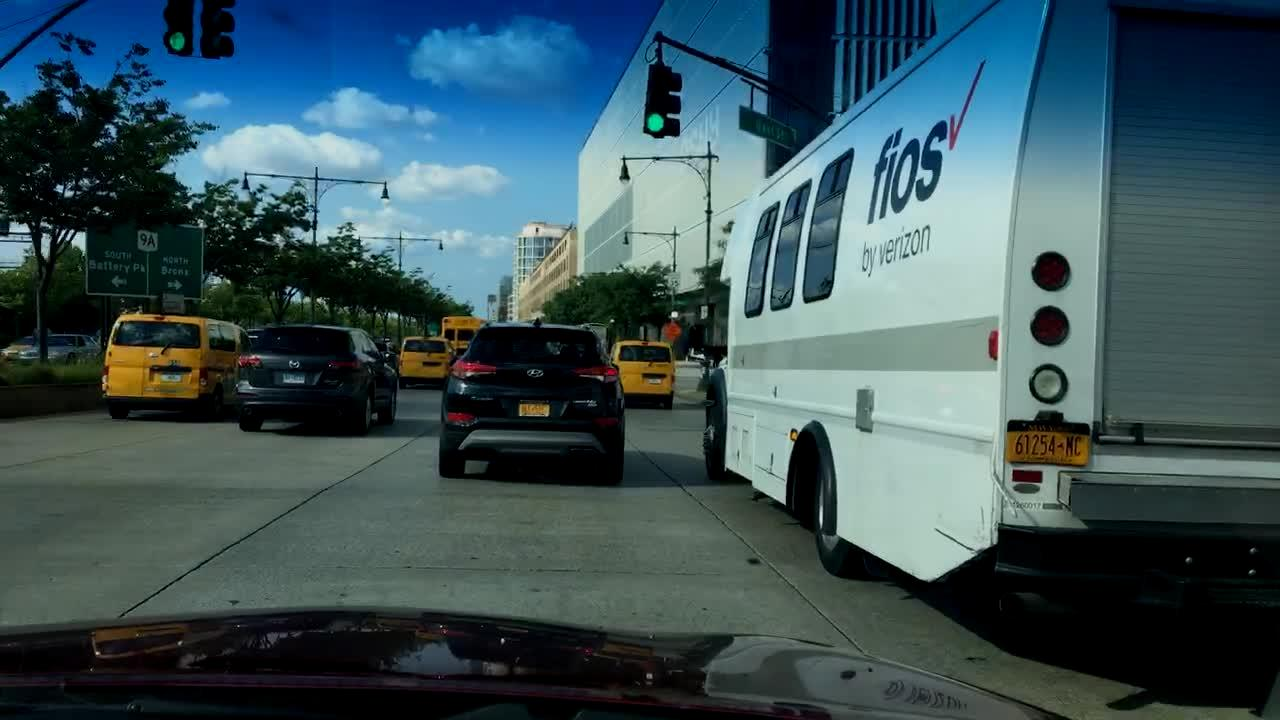Hyundai: (518, 360, 549, 380)
Mazda: (284, 353, 306, 372)
